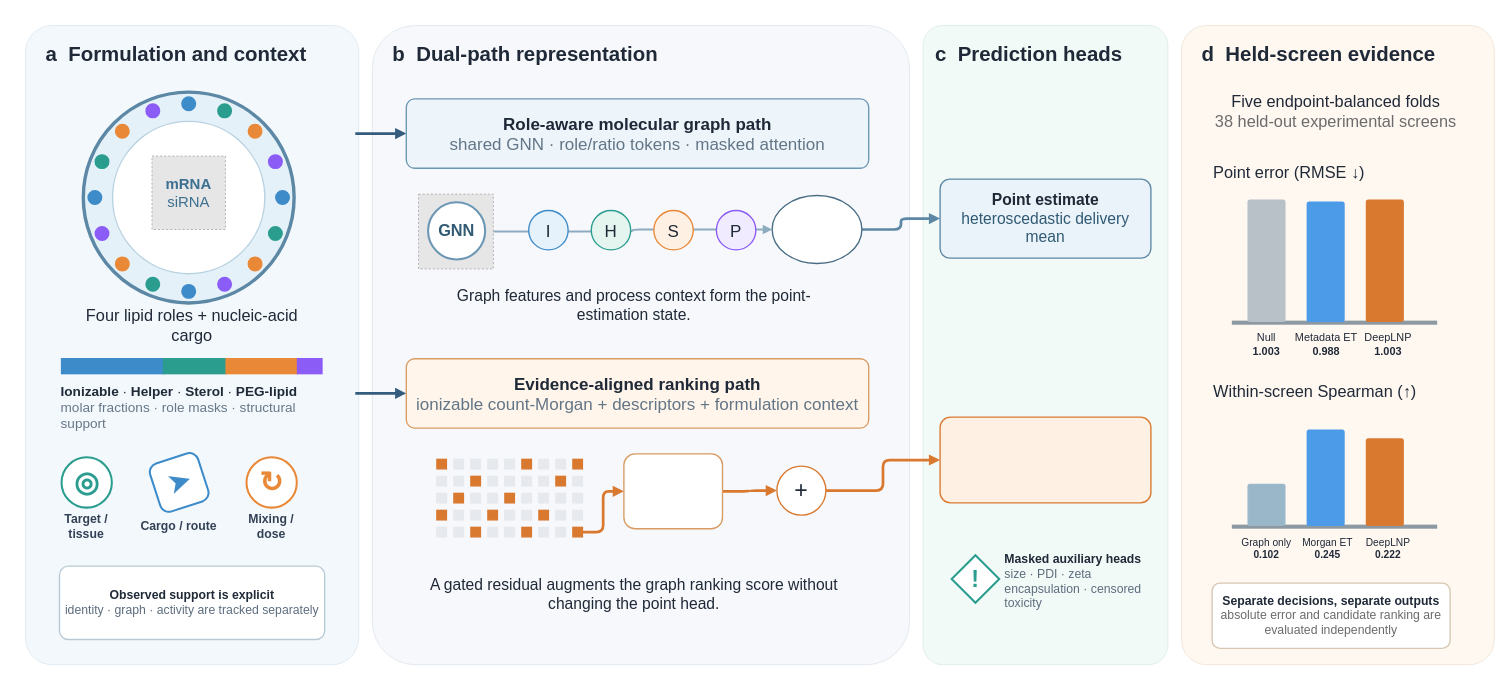
Some shapes in this 1506 by 677 pixel diagram are drawn without their labels. Grey dashed boxes stand in for pictures. The shapes that lost their labels are listed below. From the top down, each one's centre as x and y in pixels, then its label:
At (x=816, y=229): "role-aware attention".
At (x=1045, y=459): "Screen-local rank candidate ordering and top-decile recovery".
At (x=673, y=491): "MLP direct rank evidence".
